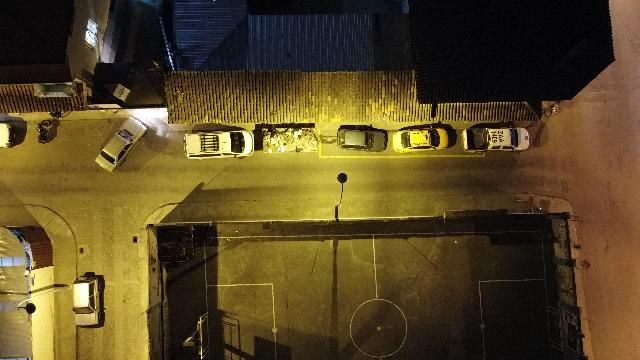Vehiculo: (95, 117, 147, 173), (183, 123, 254, 159), (462, 122, 530, 152), (393, 121, 457, 152), (72, 272, 105, 328), (337, 124, 388, 152), (0, 122, 11, 148)
